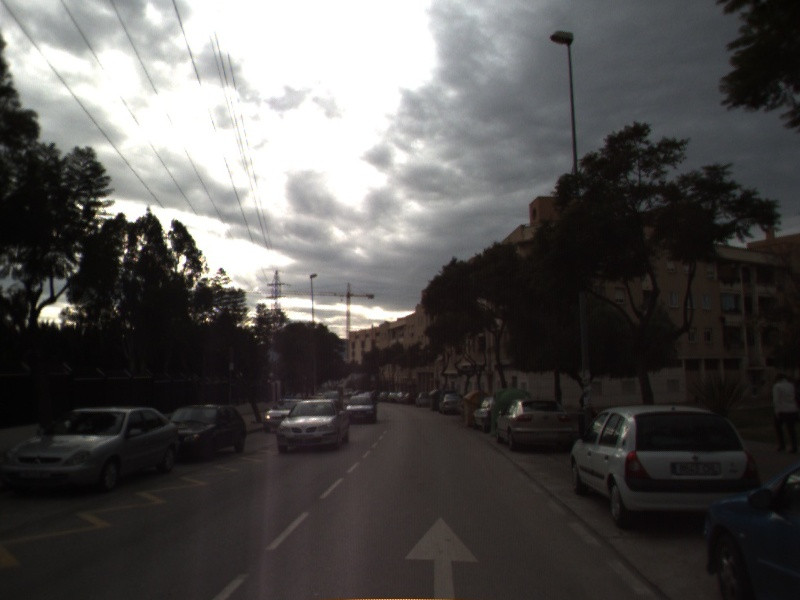STRAIGHT: (402, 515, 483, 600)
